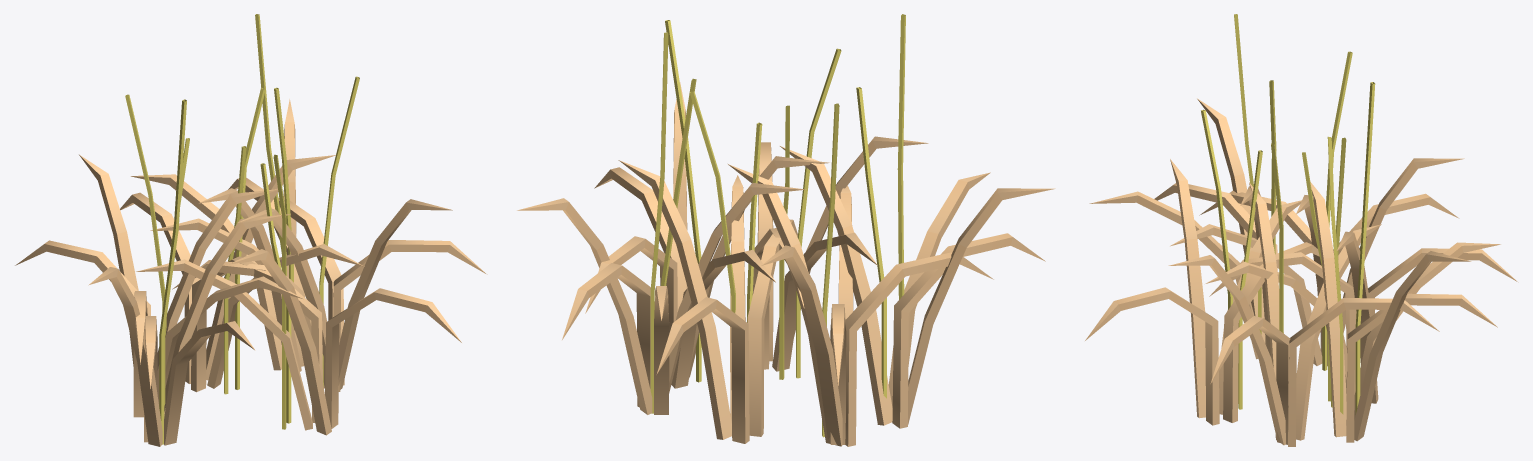
Rendered from Grass_008.glb.
3 views of the same model, side by side, from view 1: azimuth 30°, elevation 25°; view 2: azimuth 150°, elevation 25°; view 3: azimuth 270°, elevation 25° (orthographic). The views are drawn at different scales.
Visible parts, largest first — view 1: Grass_008; view 2: Grass_008; view 3: Grass_008.
Part boxes in pixels (x1,y1,x2,y2): Grass_008: [15, 14, 487, 446]; Grass_008: [517, 14, 1055, 446]; Grass_008: [1085, 14, 1518, 446].
Size of the model in its own units: 2.5 by 2.06 by 2.36.
1 material, 1 textured.
